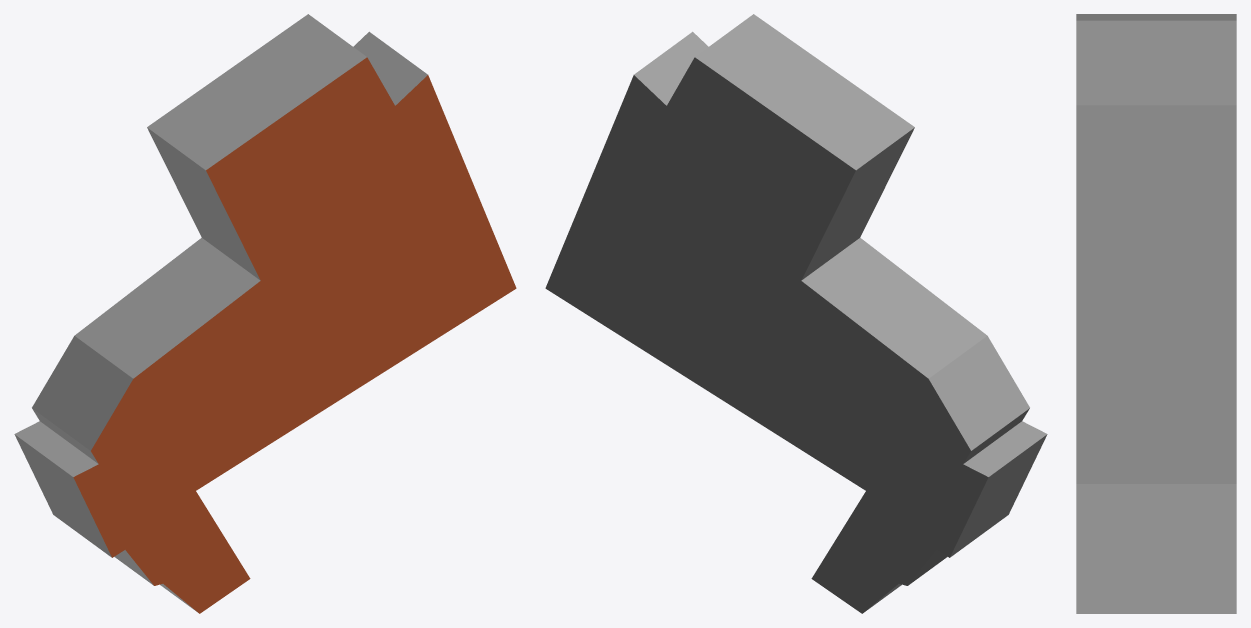
The model's file is construction_6755_assumed_A_Casa_h6m.obj.
3 views of the same model, side by side, from view 1: azimuth 30°, elevation 25°; view 2: azimuth 150°, elevation 25°; view 3: azimuth 270°, elevation 25° (orthographic). The views are drawn at different scales.
Visible parts, largest first — view 1: construction_6755_assumed_A_Casa; view 2: construction_6755_assumed_A_Casa; view 3: construction_6755_assumed_A_Casa.
Part boxes in pixels (x1,y1,x2,y2): construction_6755_assumed_A_Casa: (14,14,516,613); construction_6755_assumed_A_Casa: (545,14,1047,613); construction_6755_assumed_A_Casa: (1076,14,1236,613).
Size of the model in its own units: 26.05 by 28.97 by 6.
